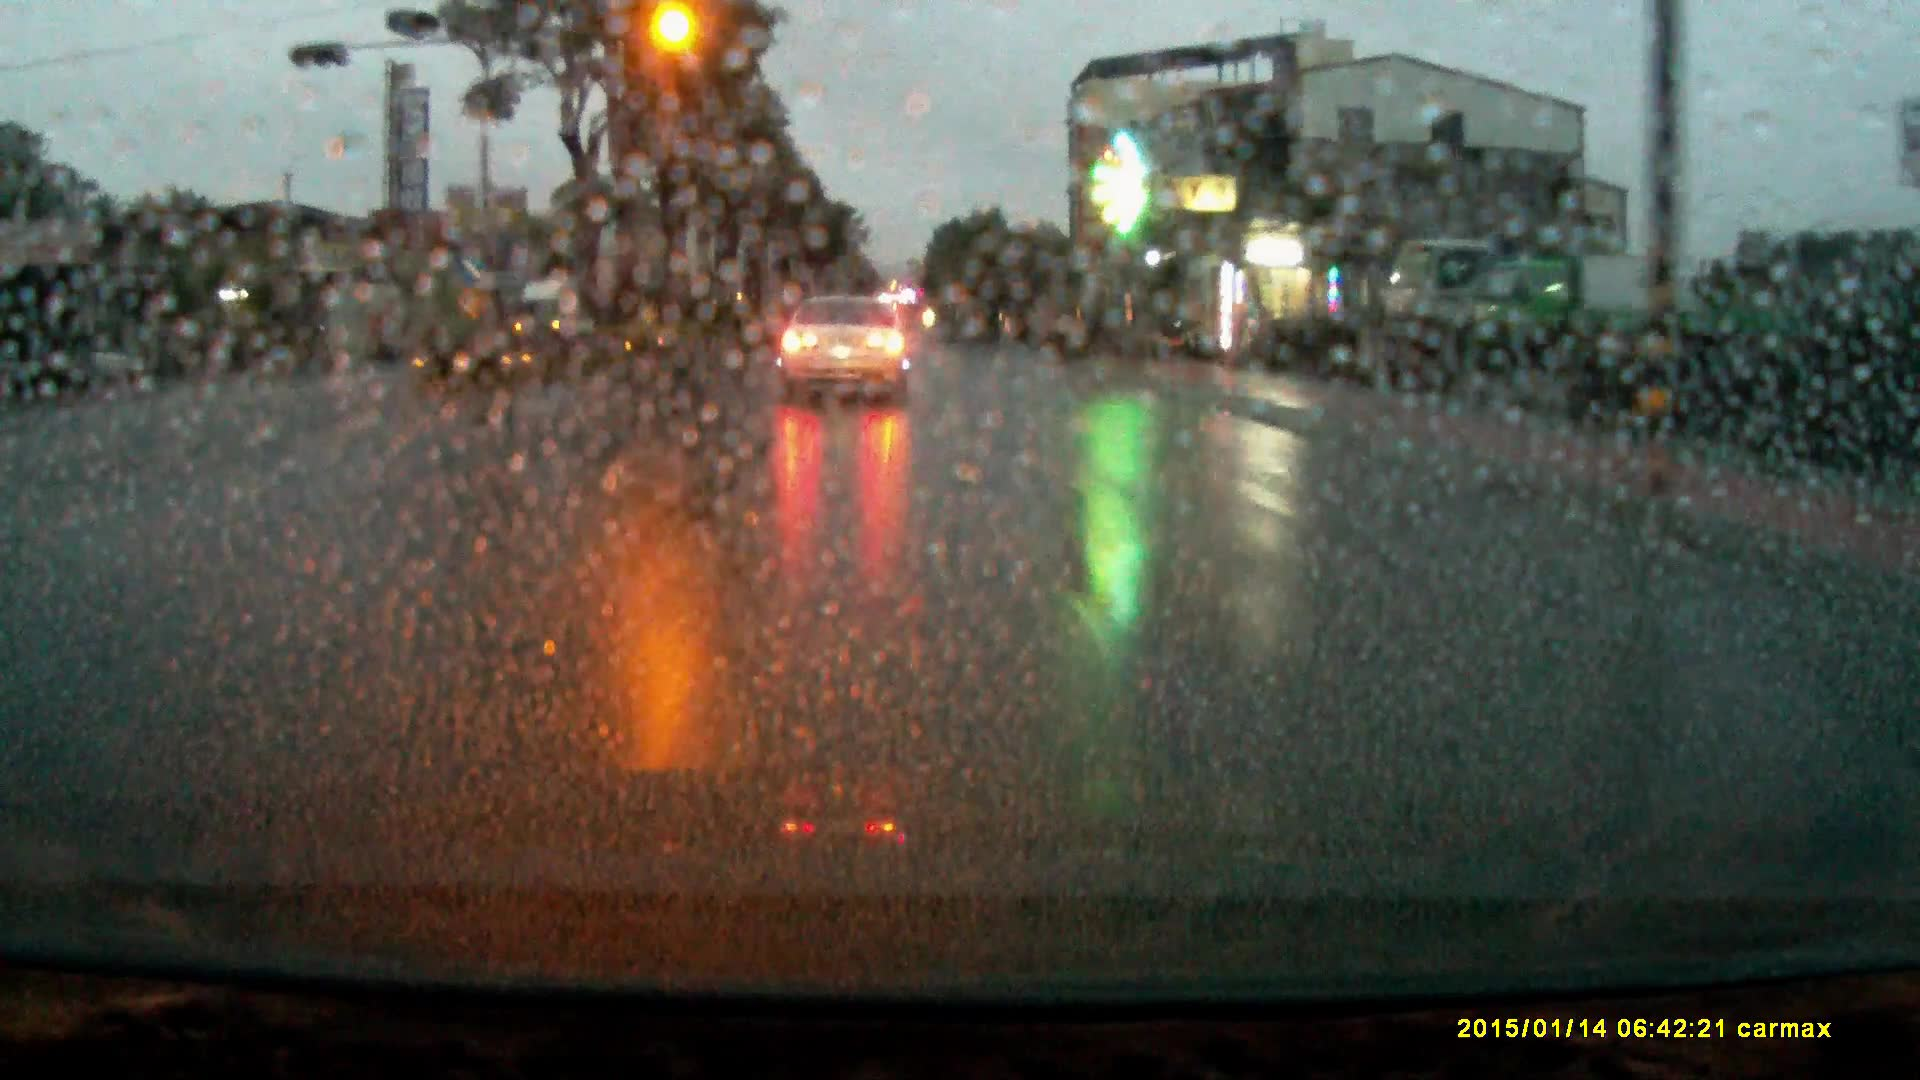vehicle: (1474, 253, 1702, 356), (777, 293, 916, 405), (1393, 231, 1507, 359), (516, 276, 591, 349)
